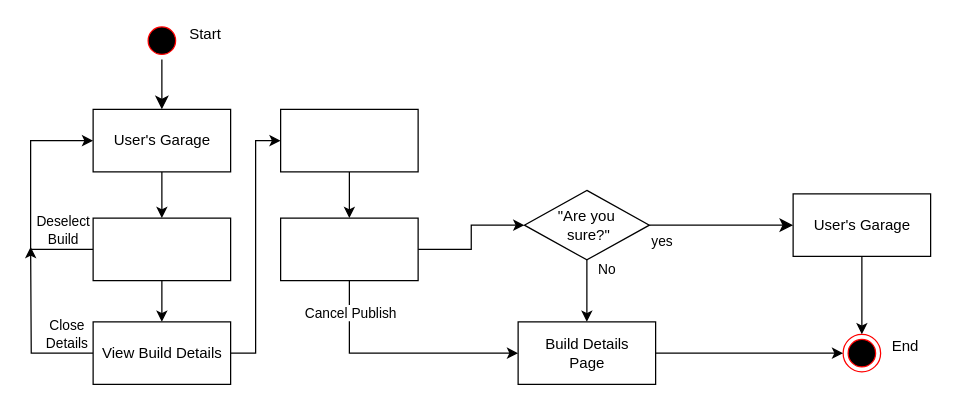
This 953x406 diagram has some shape labels left out. The shapes that lost their labels are listed below. From the top down, each one's box as (x1, y1, x2, y2) in pixels, then its label:
(279, 108, 418, 172): Opt to Publish Build
(92, 217, 231, 281): Select a Build
(279, 217, 418, 281): Name Build Uniquely
